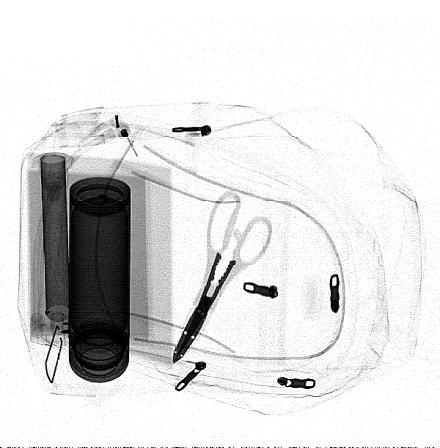Scissors: (169, 189, 274, 368)
